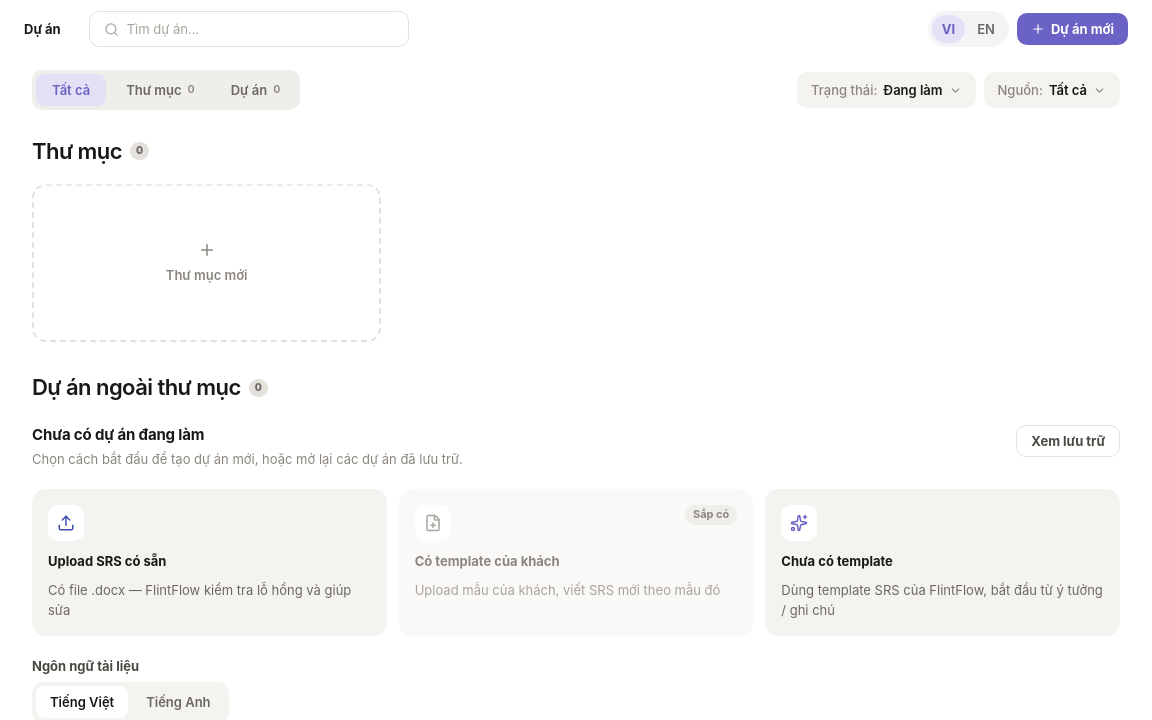
Test case: Project Dashboard › chỉ còn dự án lưu trữ ⇒ không hiện onboarding nhưng có sẵn form tạo dự án, vẫn mở được lưu trữ
Expected: the heading "Chưa có dự án đang làm" is shown, [32, 425, 204, 444]
Expected: the element named "Bạn bắt đầu từ đâu?" is shown, [32, 489, 1120, 636]
Click the button "Xem lưu trữ". click: click(1068, 441)
box: [1016, 425, 1120, 457]
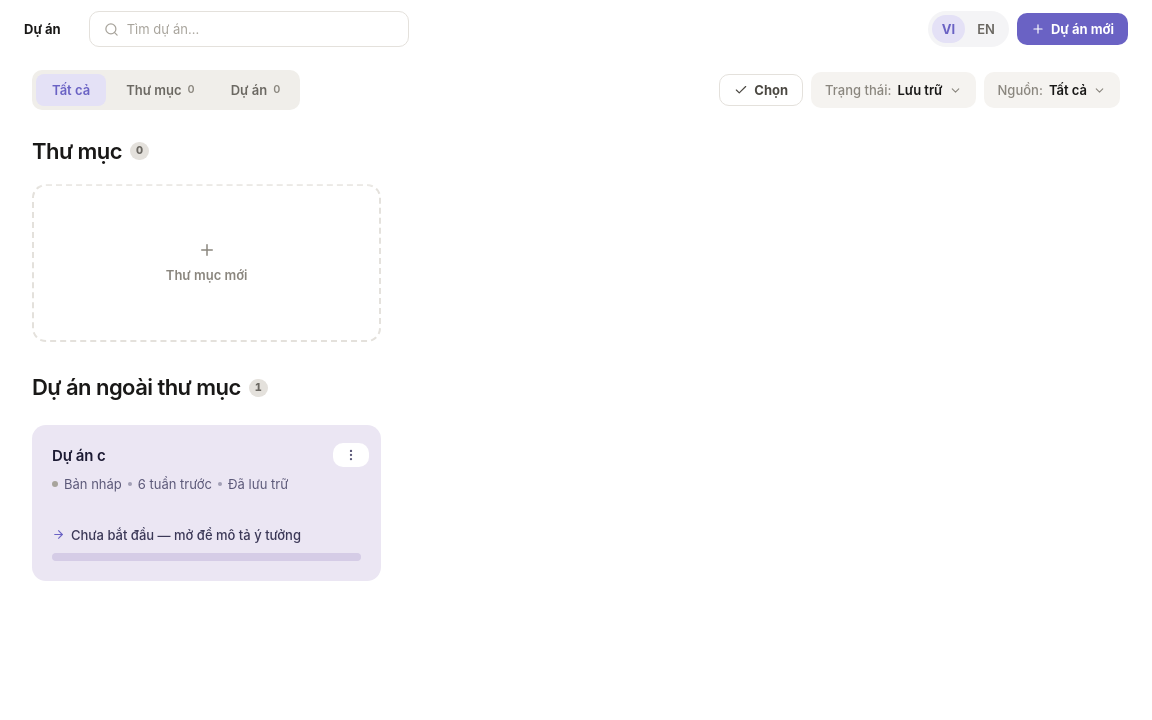
Now the link "Dự án c" is shown, box [32, 425, 381, 581]
